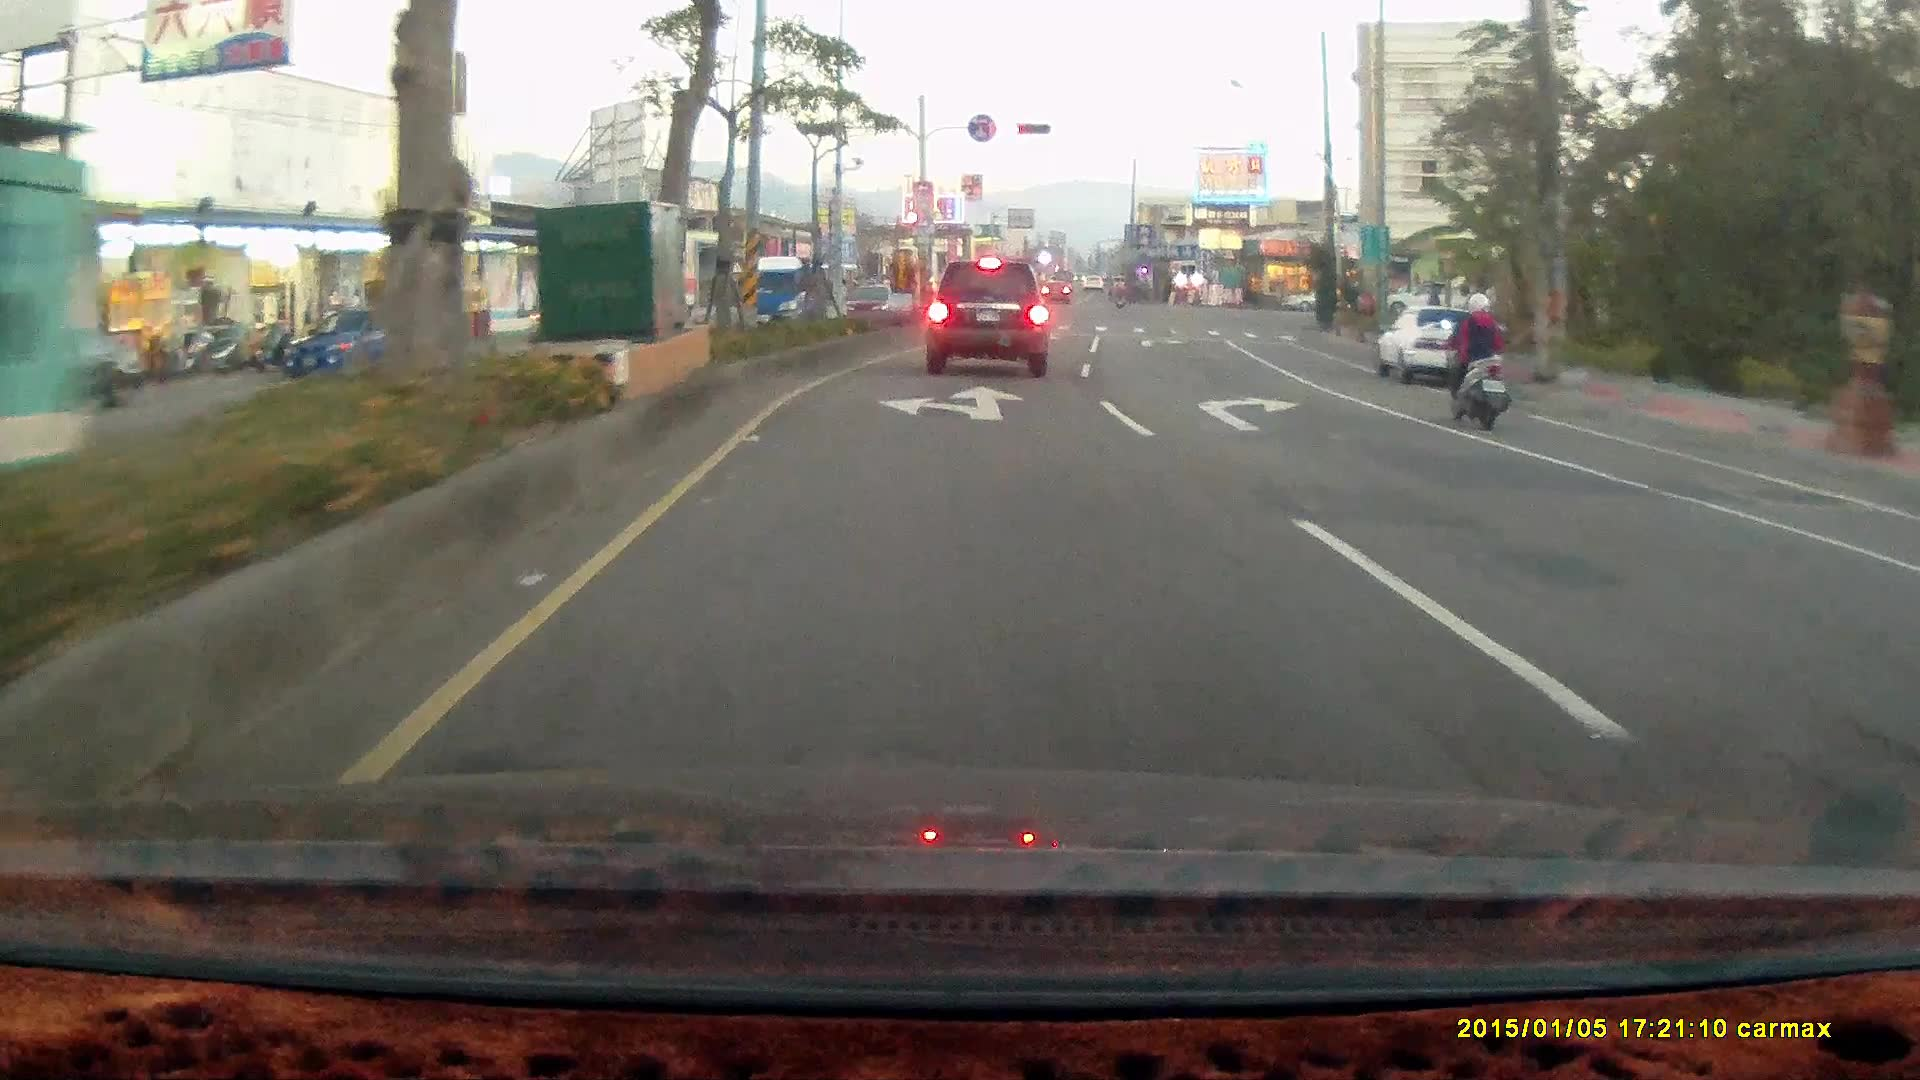rider: (1437, 288, 1515, 429)
vehicle: (924, 258, 1048, 377), (1378, 305, 1518, 384), (1372, 304, 1506, 387), (286, 304, 426, 378), (1896, 493, 1920, 836), (1883, 528, 1920, 690), (1380, 278, 1471, 317)
